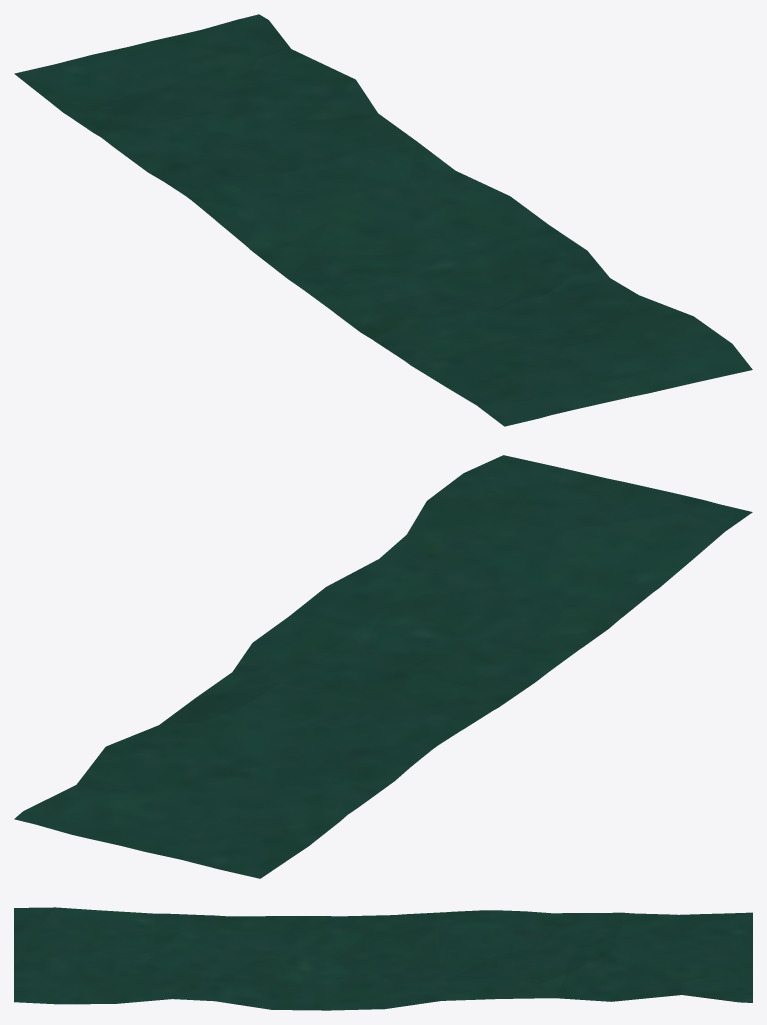
3 renders of one model, top to bottom at view 1: azimuth 30°, elevation 25°; view 2: azimuth 150°, elevation 25°; view 3: azimuth 270°, elevation 25°, orthographic. The views are drawn at different scales.
Size of the model in its own units: 15.86 by 0.9143 by 52.22.
Materials: 1 (1 with a texture image).
